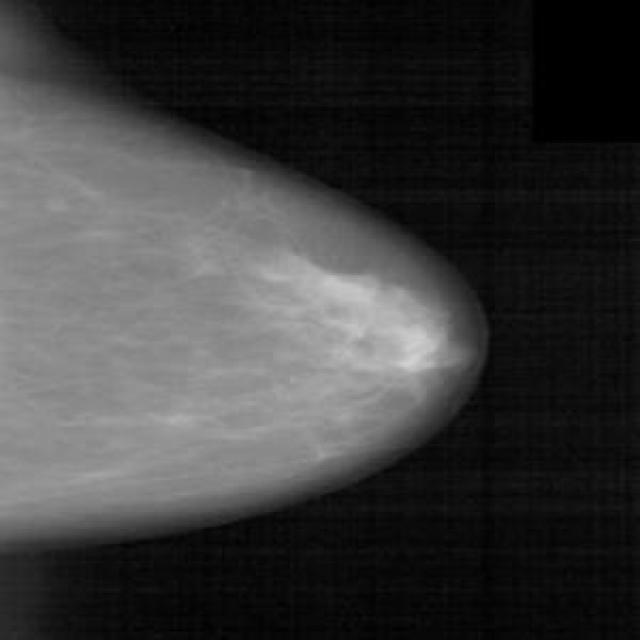tumor: (286, 244, 456, 392)
